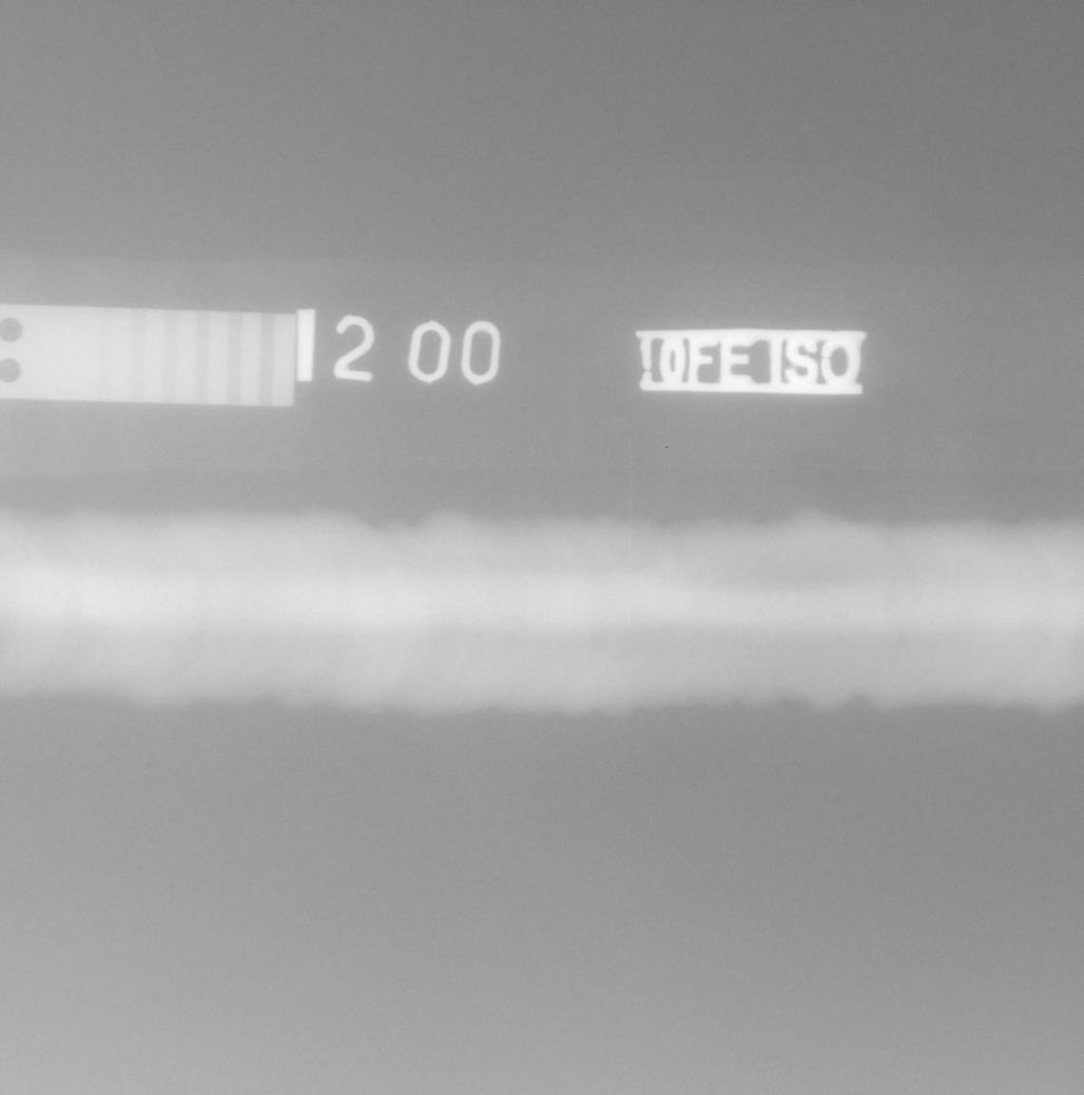Pore/Porosity: (54, 592, 62, 599), (838, 636, 846, 642), (242, 618, 249, 623)
